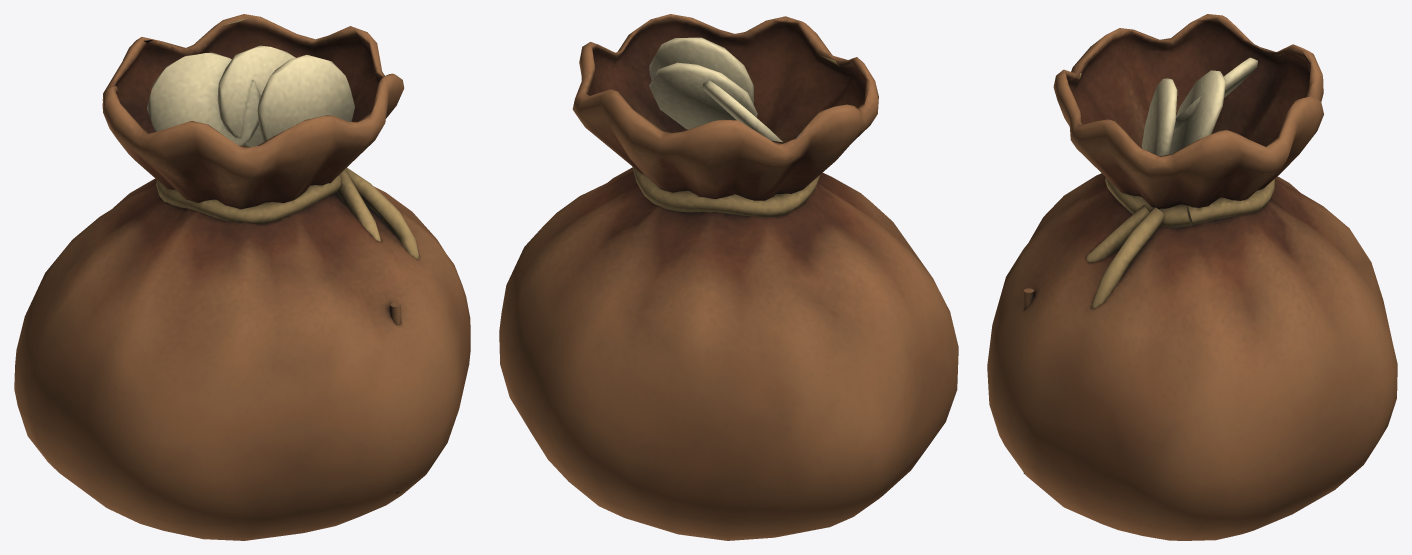
Rendered from item_bolsa_v2.glb.
3 views of the same model, side by side, from view 1: azimuth 30°, elevation 25°; view 2: azimuth 150°, elevation 25°; view 3: azimuth 270°, elevation 25° (orthographic). The views are drawn at different scales.
Visible parts, largest first — view 1: item_bolsa; view 2: item_bolsa; view 3: item_bolsa.
Part boxes in pixels (x1=…): item_bolsa: x1=14, y1=14, x2=470, y2=540; item_bolsa: x1=499, y1=14, x2=958, y2=540; item_bolsa: x1=987, y1=14, x2=1397, y2=540.
Size of the model in its own units: 0.2232 by 0.2317 by 0.1981.
Materials: 1 (1 with a texture image).
